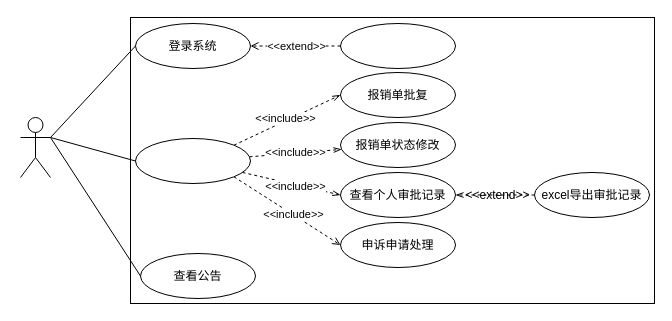
Image size: 672x321. Some labels were removed from this diagram. The centre of each missing label's shape, as x and y in pixels:
审核员: the point at 35,147
密码找回: the point at 398,45
报销审核: the point at 192,161
